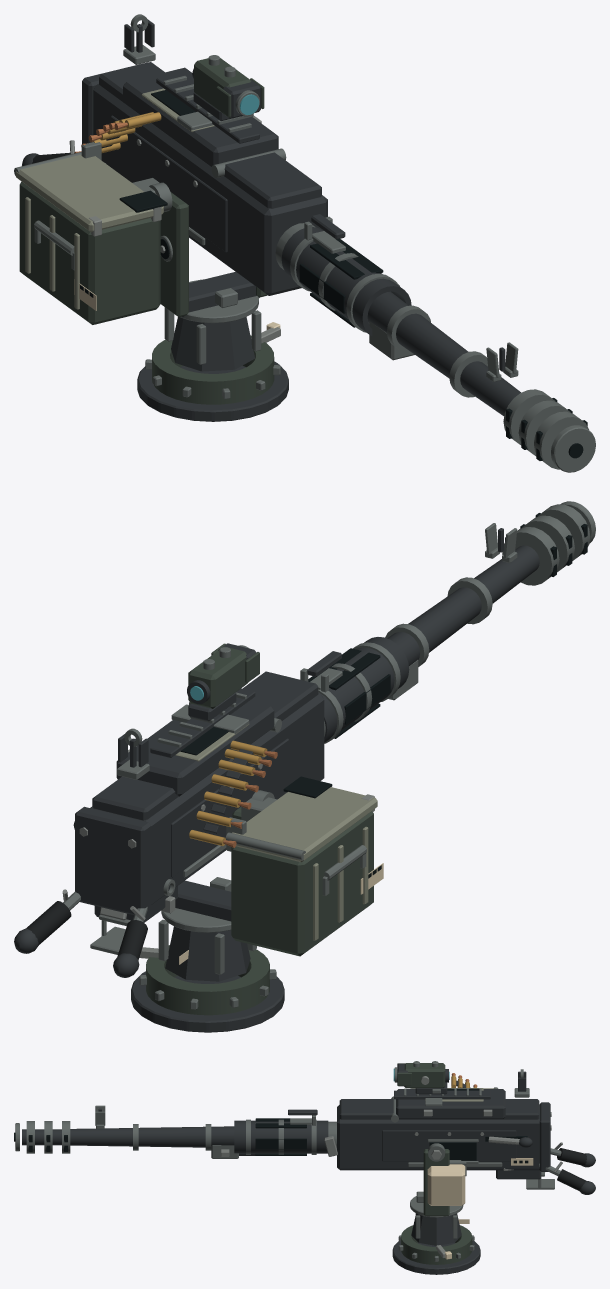
File: iron_dust_mg_01.glb
3 renders of one model, top to bottom at view 1: azimuth 30°, elevation 25°; view 2: azimuth 150°, elevation 25°; view 3: azimuth 270°, elevation 25°, orthographic. The views are drawn at different scales.
Visible parts, largest first — view 1: MG_Ammo_Can, MG_Receiver_Body, MG_Ammo_Lid, MG_Barrel_Tube, MG_Receiver_SidePlate_L, MG_Receiver_UpperSpine, MG_Mount_TraverseRing, MG_Receiver_TopCover, MG_Mount_AdapterPlate, MG_Mount_Pedestal, MG_Barrel_Shroud, MG_Yoke_L (+17 smaller); view 2: MG_Ammo_Can, MG_Receiver_RearPlate, MG_Receiver_Body, MG_Ammo_Lid, MG_Barrel_Tube, MG_Receiver_UpperSpine, MG_Mount_TraverseRing, MG_Receiver_TopCover, MG_Receiver_SidePlate_L, MG_Mount_AdapterPlate, MG_Mount_Pedestal, MG_Barrel_Shroud (+14 smaller); view 3: MG_Receiver_Body, MG_Barrel_Tube, MG_Receiver_SidePlate_R, MG_Receiver_TopCover, MG_Receiver_UpperSpine, MG_Barrel_Shroud, MG_Brass_CatchBag, MG_Mount_TraverseRing, MG_Mount_AdapterPlate, MG_Mount_Pedestal, MG_Optic_Body, MG_Receiver_RearPlate (+14 smaller).
Part boxes in pixels (bbox=[...]): MG_Ammo_Can: bbox=[19, 181, 160, 324]; MG_Receiver_Body: bbox=[93, 83, 327, 295]; MG_Ammo_Lid: bbox=[16, 154, 163, 232]; MG_Barrel_Tube: bbox=[367, 291, 520, 416]; MG_Receiver_SidePlate_L: bbox=[111, 115, 227, 252]; MG_Receiver_UpperSpine: bbox=[99, 62, 321, 208]; MG_Mount_TraverseRing: bbox=[152, 335, 274, 404]; MG_Receiver_TopCover: bbox=[123, 67, 278, 166]; MG_Mount_AdapterPlate: bbox=[137, 361, 288, 421]; MG_Mount_Pedestal: bbox=[171, 317, 254, 371]; MG_Barrel_Shroud: bbox=[281, 227, 411, 335]; MG_Yoke_L: bbox=[160, 192, 188, 316]; MG_Ammo_Can: bbox=[231, 811, 373, 956]; MG_Receiver_RearPlate: bbox=[75, 806, 151, 914]; MG_Receiver_Body: bbox=[90, 693, 324, 904]; MG_Ammo_Lid: bbox=[232, 787, 377, 862]; MG_Barrel_Tube: bbox=[387, 545, 539, 666]; MG_Receiver_UpperSpine: bbox=[92, 671, 318, 820]; MG_Mount_TraverseRing: bbox=[146, 945, 269, 1015]; MG_Receiver_TopCover: bbox=[116, 701, 274, 796]; MG_Receiver_SidePlate_L: bbox=[171, 738, 288, 877]; MG_Mount_AdapterPlate: bbox=[131, 971, 284, 1032]; MG_Mount_Pedestal: bbox=[165, 926, 250, 981]; MG_Barrel_Shroud: bbox=[318, 637, 409, 742]; MG_Receiver_Body: bbox=[337, 1105, 539, 1170]; MG_Barrel_Tube: bbox=[70, 1126, 234, 1147]; MG_Receiver_SidePlate_R: bbox=[382, 1130, 516, 1161]; MG_Receiver_TopCover: bbox=[396, 1089, 505, 1119]; MG_Receiver_UpperSpine: bbox=[339, 1099, 539, 1119]; MG_Barrel_Shroud: bbox=[234, 1120, 328, 1153]; MG_Brass_CatchBag: bbox=[427, 1164, 465, 1205]; MG_Mount_TraverseRing: bbox=[401, 1225, 472, 1264]; MG_Mount_AdapterPlate: bbox=[392, 1241, 480, 1274]; MG_Mount_Pedestal: bbox=[411, 1213, 461, 1245]; MG_Optic_Body: bbox=[404, 1063, 445, 1088]; MG_Receiver_RearPlate: bbox=[539, 1102, 550, 1171].
Size of the model in its own units: 0.5318 by 0.752 by 2.04.
